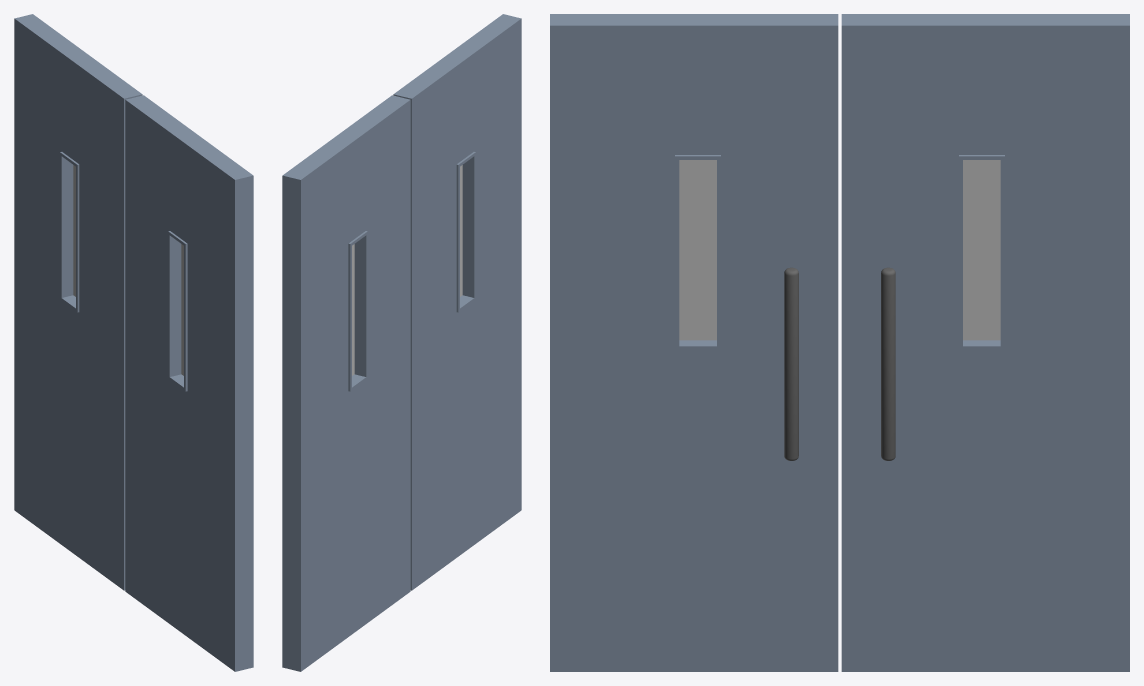
The model's file is BigDoor_small.fbx.
3 views of the same model, side by side, from view 1: azimuth 30°, elevation 25°; view 2: azimuth 150°, elevation 25°; view 3: azimuth 270°, elevation 25° (orthographic). The views are drawn at different scales.
Parts seen in each view (by area): view 1: BigDoorLeft, BigDoorRight, Window, Window_2; view 2: BigDoorRight, BigDoorLeft, Window, Window_2; view 3: BigDoorLeft, BigDoorRight, Window, Window_2, Cylinder, Cylinder_2_3.
Part boxes in pixels (<box>): BigDoorLeft: <box>125,95,253,671</box>; BigDoorRight: <box>14,14,142,590</box>; Window: <box>181,244,183,375</box>; Window_2: <box>73,165,75,296</box>; BigDoorRight: <box>282,95,410,671</box>; BigDoorLeft: <box>393,14,521,590</box>; Window: <box>460,165,462,296</box>; Window_2: <box>352,244,354,375</box>; BigDoorLeft: <box>550,14,838,671</box>; BigDoorRight: <box>841,14,1129,671</box>; Window: <box>679,160,716,340</box>; Window_2: <box>963,160,1000,340</box>; Cylinder: <box>784,267,798,460</box>; Cylinder_2_3: <box>881,267,895,460</box>.
Bounding box in the file's own units: 15.33 × 195 × 159.
1 material, 1 textured.
